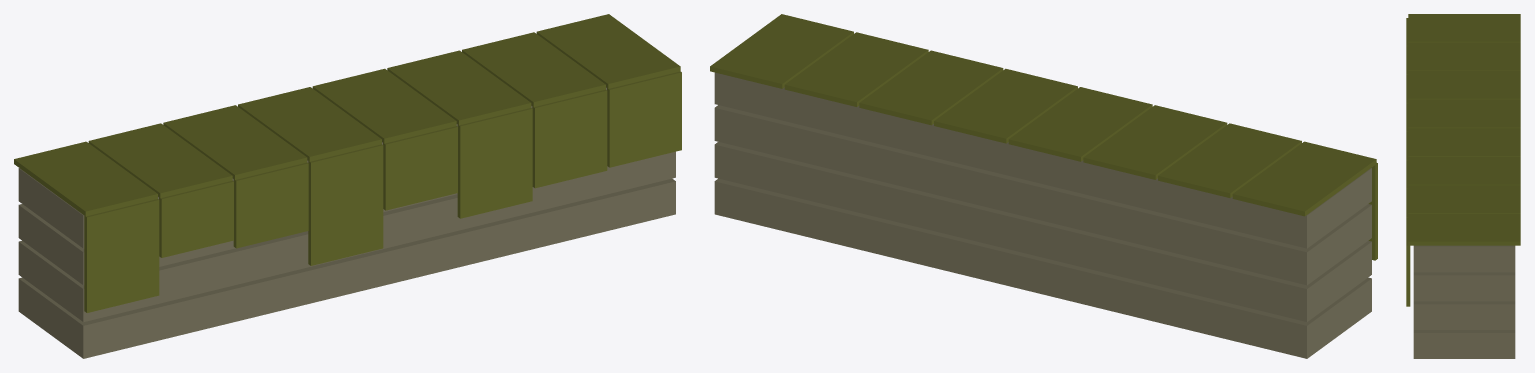
Rendered from SM_PretilTramo_v4_Red_e0_Sano_LOD1.fbx.
3 views of the same model, side by side, from view 1: azimuth 30°, elevation 25°; view 2: azimuth 150°, elevation 25°; view 3: azimuth 270°, elevation 25° (orthographic). The views are drawn at different scales.
Parts seen in each view (by area): view 1: SM_pretil_azotea_v16_LOD1; view 2: SM_pretil_azotea_v16_LOD1; view 3: SM_pretil_azotea_v16_LOD1.
Part boxes in pixels (bbox=[...]): SM_pretil_azotea_v16_LOD1: bbox=[14, 14, 681, 358]; SM_pretil_azotea_v16_LOD1: bbox=[710, 14, 1377, 358]; SM_pretil_azotea_v16_LOD1: bbox=[1406, 14, 1520, 358].
Size of the model in its own units: 5.08 by 1.23 by 1.08.
